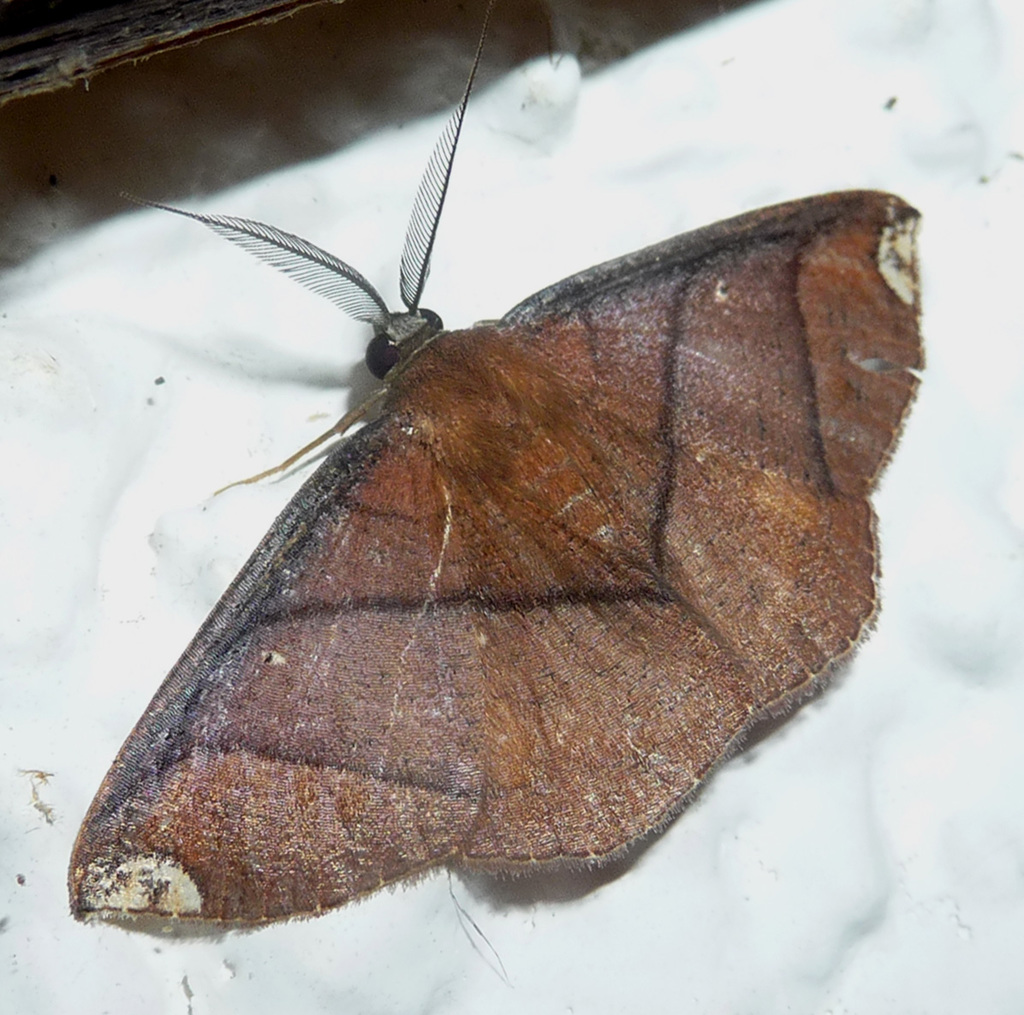Butterfly: (47, 194, 932, 936)
